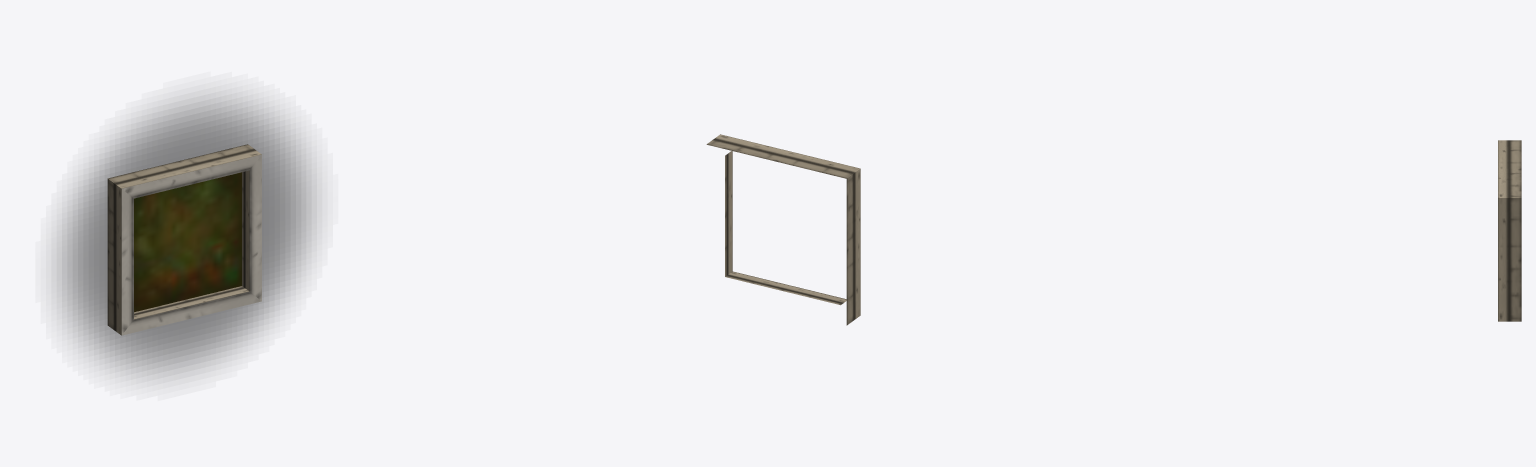
Rendered from prop_tree_fat_brickbox_ul.glb.
3 views of the same model, side by side, from view 1: azimuth 30°, elevation 25°; view 2: azimuth 150°, elevation 25°; view 3: azimuth 270°, elevation 25° (orthographic). The views are drawn at different scales.
Parts seen in each view (by area): view 1: shadow_large_brickbox_ul_1, box_drit_4; view 2: box_drit_4; view 3: box_drit_4.
Part boxes in pixels (<box>): shadow_large_brickbox_ul_1: <box>56,94,316,379</box>; box_drit_4: <box>107,144,261,335</box>; box_drit_4: <box>706,134,860,325</box>; box_drit_4: <box>1498,140,1521,321</box>.
Bounding box in the file's own units: 23.98 × 23.54 × 25.34.
Materials: 4 (4 with a texture image).
